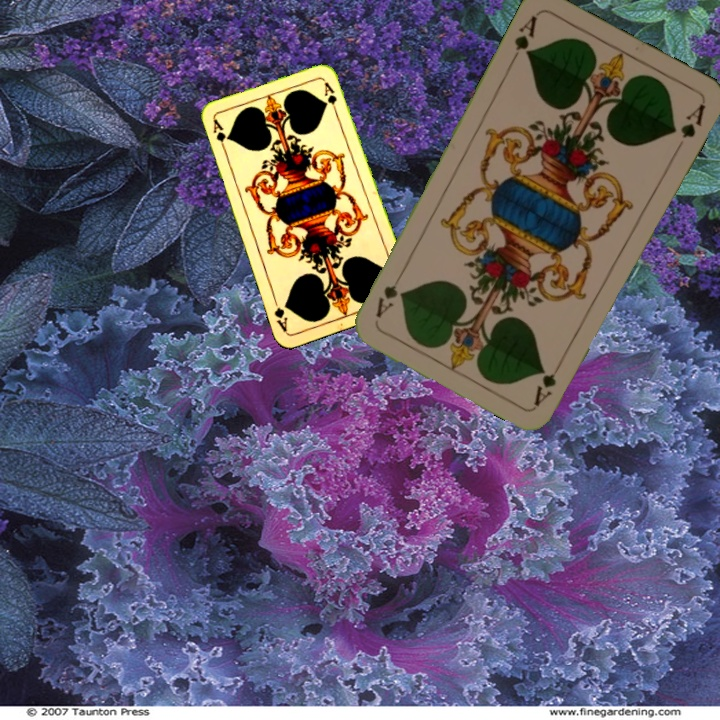GA: (530, 355, 567, 408), (507, 11, 540, 66), (209, 115, 229, 155)
